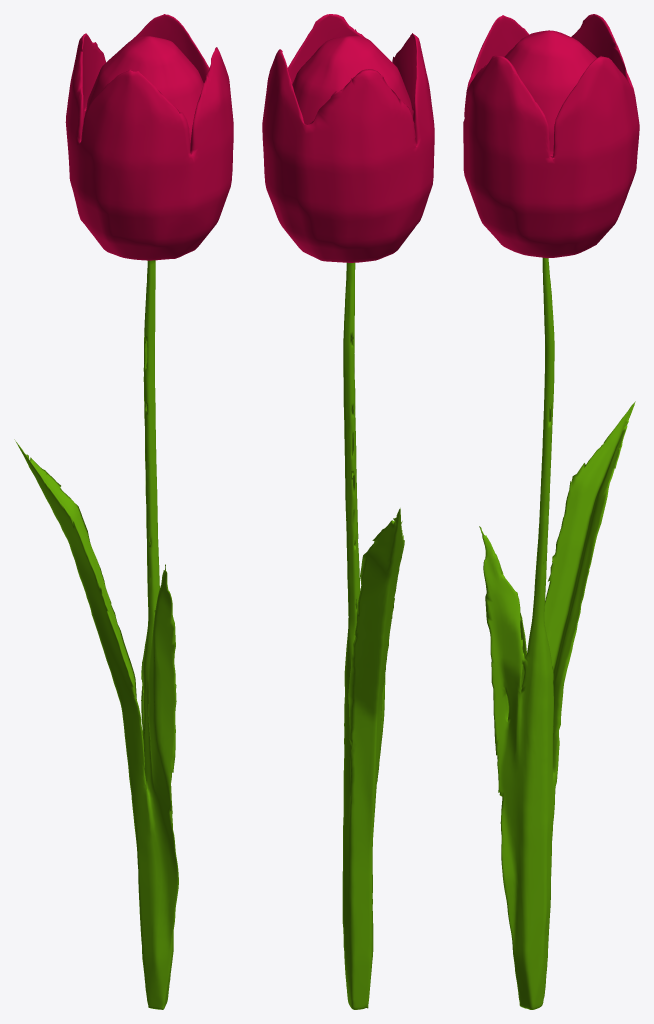
The model's file is red.glb.
3 views of the same model, side by side, from view 1: azimuth 30°, elevation 25°; view 2: azimuth 150°, elevation 25°; view 3: azimuth 270°, elevation 25° (orthographic).
Parts seen in each view (by area): view 1: tulip_red; view 2: tulip_red; view 3: tulip_red.
Boxes of the visible parts, left/top/right/bottom form: tulip_red: left=14, top=14, right=233, bottom=1009; tulip_red: left=262, top=14, right=434, bottom=1009; tulip_red: left=463, top=14, right=639, bottom=1009.
Bounding box in the file's own units: 0.303 × 1.7 × 0.278.
